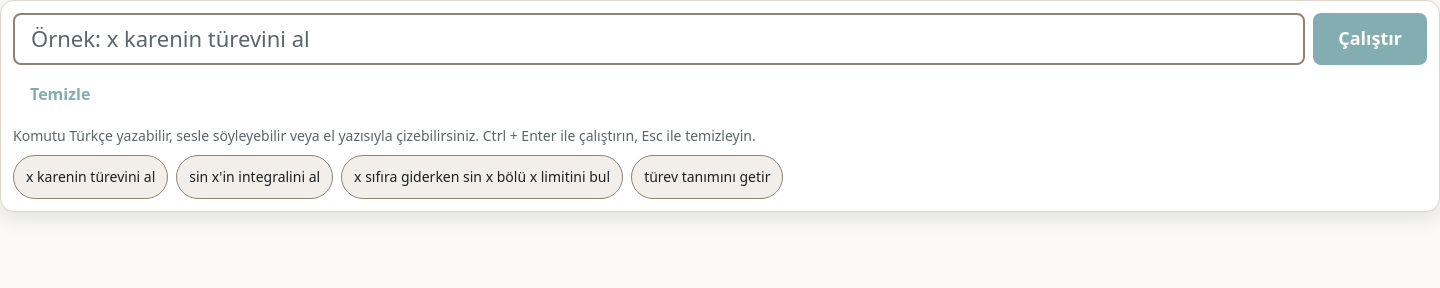
CommandBar › shows the Turkish problem detail when the API refuses
The image size is (1440, 288).
Type "uzay-zamanı çöz" into the field named "Komut" at (659, 39), box [13,13,1305,65]
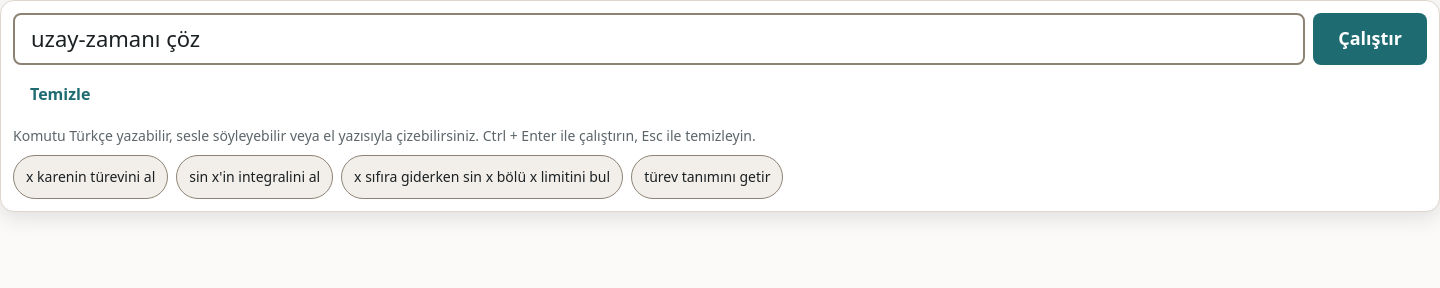
Click the button "Çalıştır" at (1370, 39), box [1313,13,1427,65]
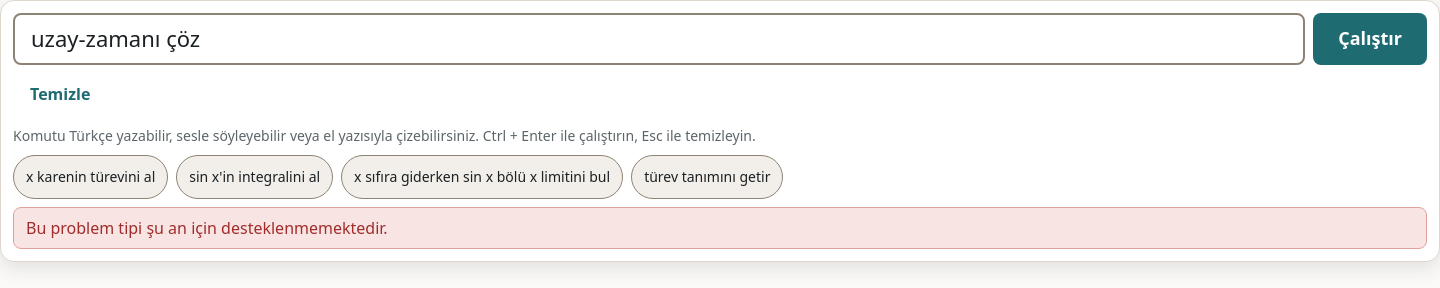
Expected: the message reads "Bu problem tipi şu an için desteklenmemektedir.", [26,217,388,239]
